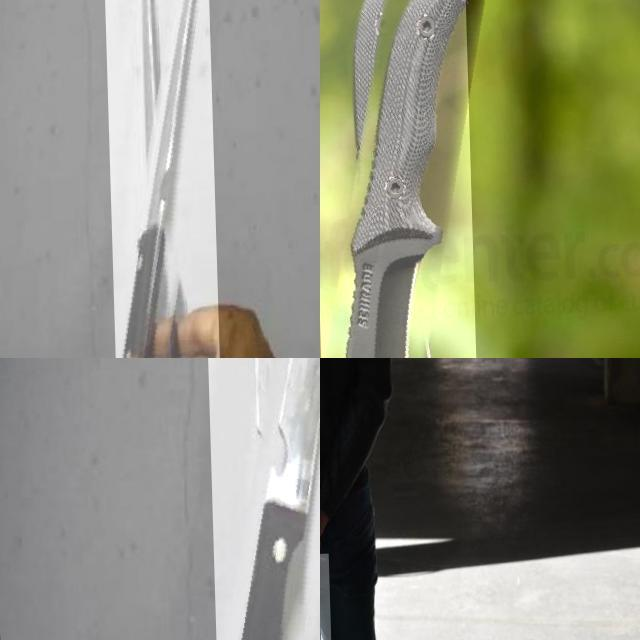-: (320, 0, 477, 358), (102, 0, 220, 358), (204, 358, 320, 640), (320, 555, 344, 640)
